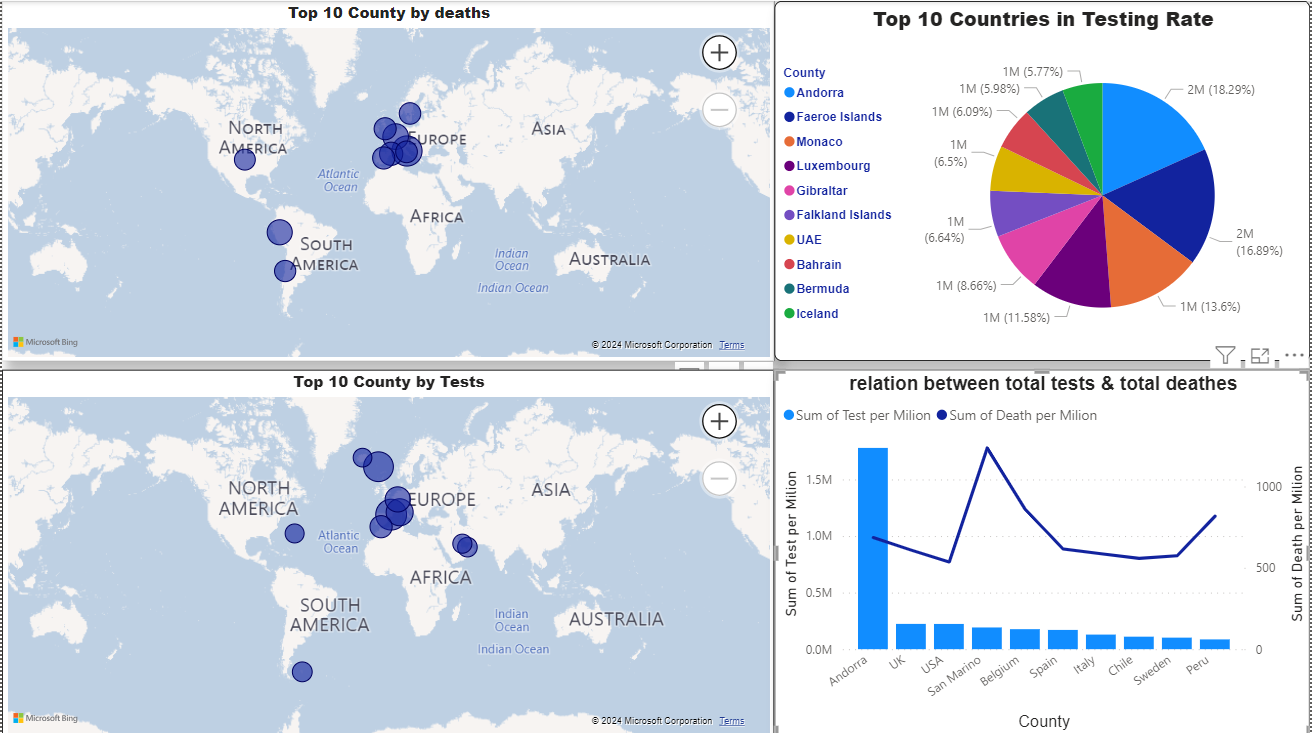

This screenshot's page, from the dashboard's own definition file:
{"tool":"powerbi","page":{"name":"Page 1","canvas":[1280,720],"ordinal":0},"visuals":[{"type":"map","title":"Top 10 County by deaths","fields":{"Category":["Covid_results_final.County"],"Size":["Sum(Covid_results_final.Death per Milion)"]},"box":[0,0,755.4,352.1],"z":0},{"type":"map","title":"Top 10 County by Tests","fields":{"Category":["Covid_results_final.County"],"Size":["Sum(Covid_results_final.Test per Milion)"]},"box":[0,360.6,755.4,359.4],"z":1000},{"type":"pieChart","title":"Top 10 Countries in Testing Rate","fields":{"Category":["Covid_results_final.County"],"Y":["Sum(Covid_results_final.Test per Milion)"]},"box":[755.4,0,524.4,352.1],"z":2000},{"type":"lineStackedColumnComboChart","title":"relation between total tests & total deathes ","fields":{"Category":["Covid_results_final.County"],"Y":["Sum(Covid_results_final.Test per Milion)"],"Y2":["Sum(Covid_results_final.Death per Milion)"]},"box":[755.4,360.6,524.4,359.4],"z":3000}]}

Visuals, with their boxes in screenshot pixels (x1, y1, x2, y2), scaled from the page's 1280x720 canvas onto the 1312x733 screenshot:
"Top 10 County by deaths" map: box(0, 0, 774, 358)
"Top 10 County by Tests" map: box(0, 367, 774, 732)
"Top 10 Countries in Testing Rate" pieChart: box(774, 0, 1311, 358)
"relation between total tests & total deathes " lineStackedColumnComboChart: box(774, 367, 1311, 732)
